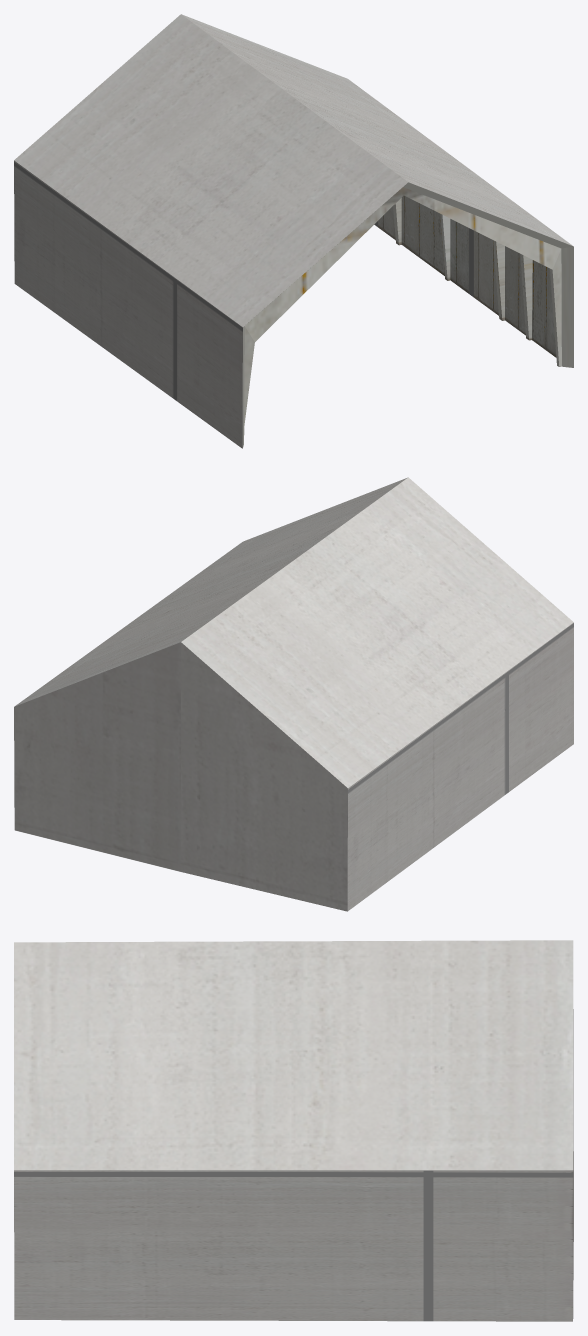
File: museum.FBX
The picture shows the model from 3 angles, top to bottom: view 1: azimuth 30°, elevation 25°; view 2: azimuth 150°, elevation 25°; view 3: azimuth 270°, elevation 25°; orthographic projection. The views are drawn at different scales.
Visible parts, largest first — view 1: museum; view 2: museum; view 3: museum.
Boxes of the visible parts, box(x1,y1,x2,y2) form: museum: box(14, 14, 573, 448); museum: box(14, 477, 573, 911); museum: box(14, 940, 573, 1321).
Bounding box in the file's own units: 71.74 × 47.13 × 84.71.
1 material, 1 textured.
